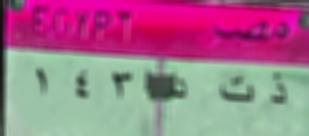1: (30, 62, 53, 104)
3: (110, 67, 137, 107)
4: (70, 65, 94, 103)
daal: (173, 72, 195, 104)
taa: (215, 72, 258, 112)
zaal: (265, 66, 294, 113)
